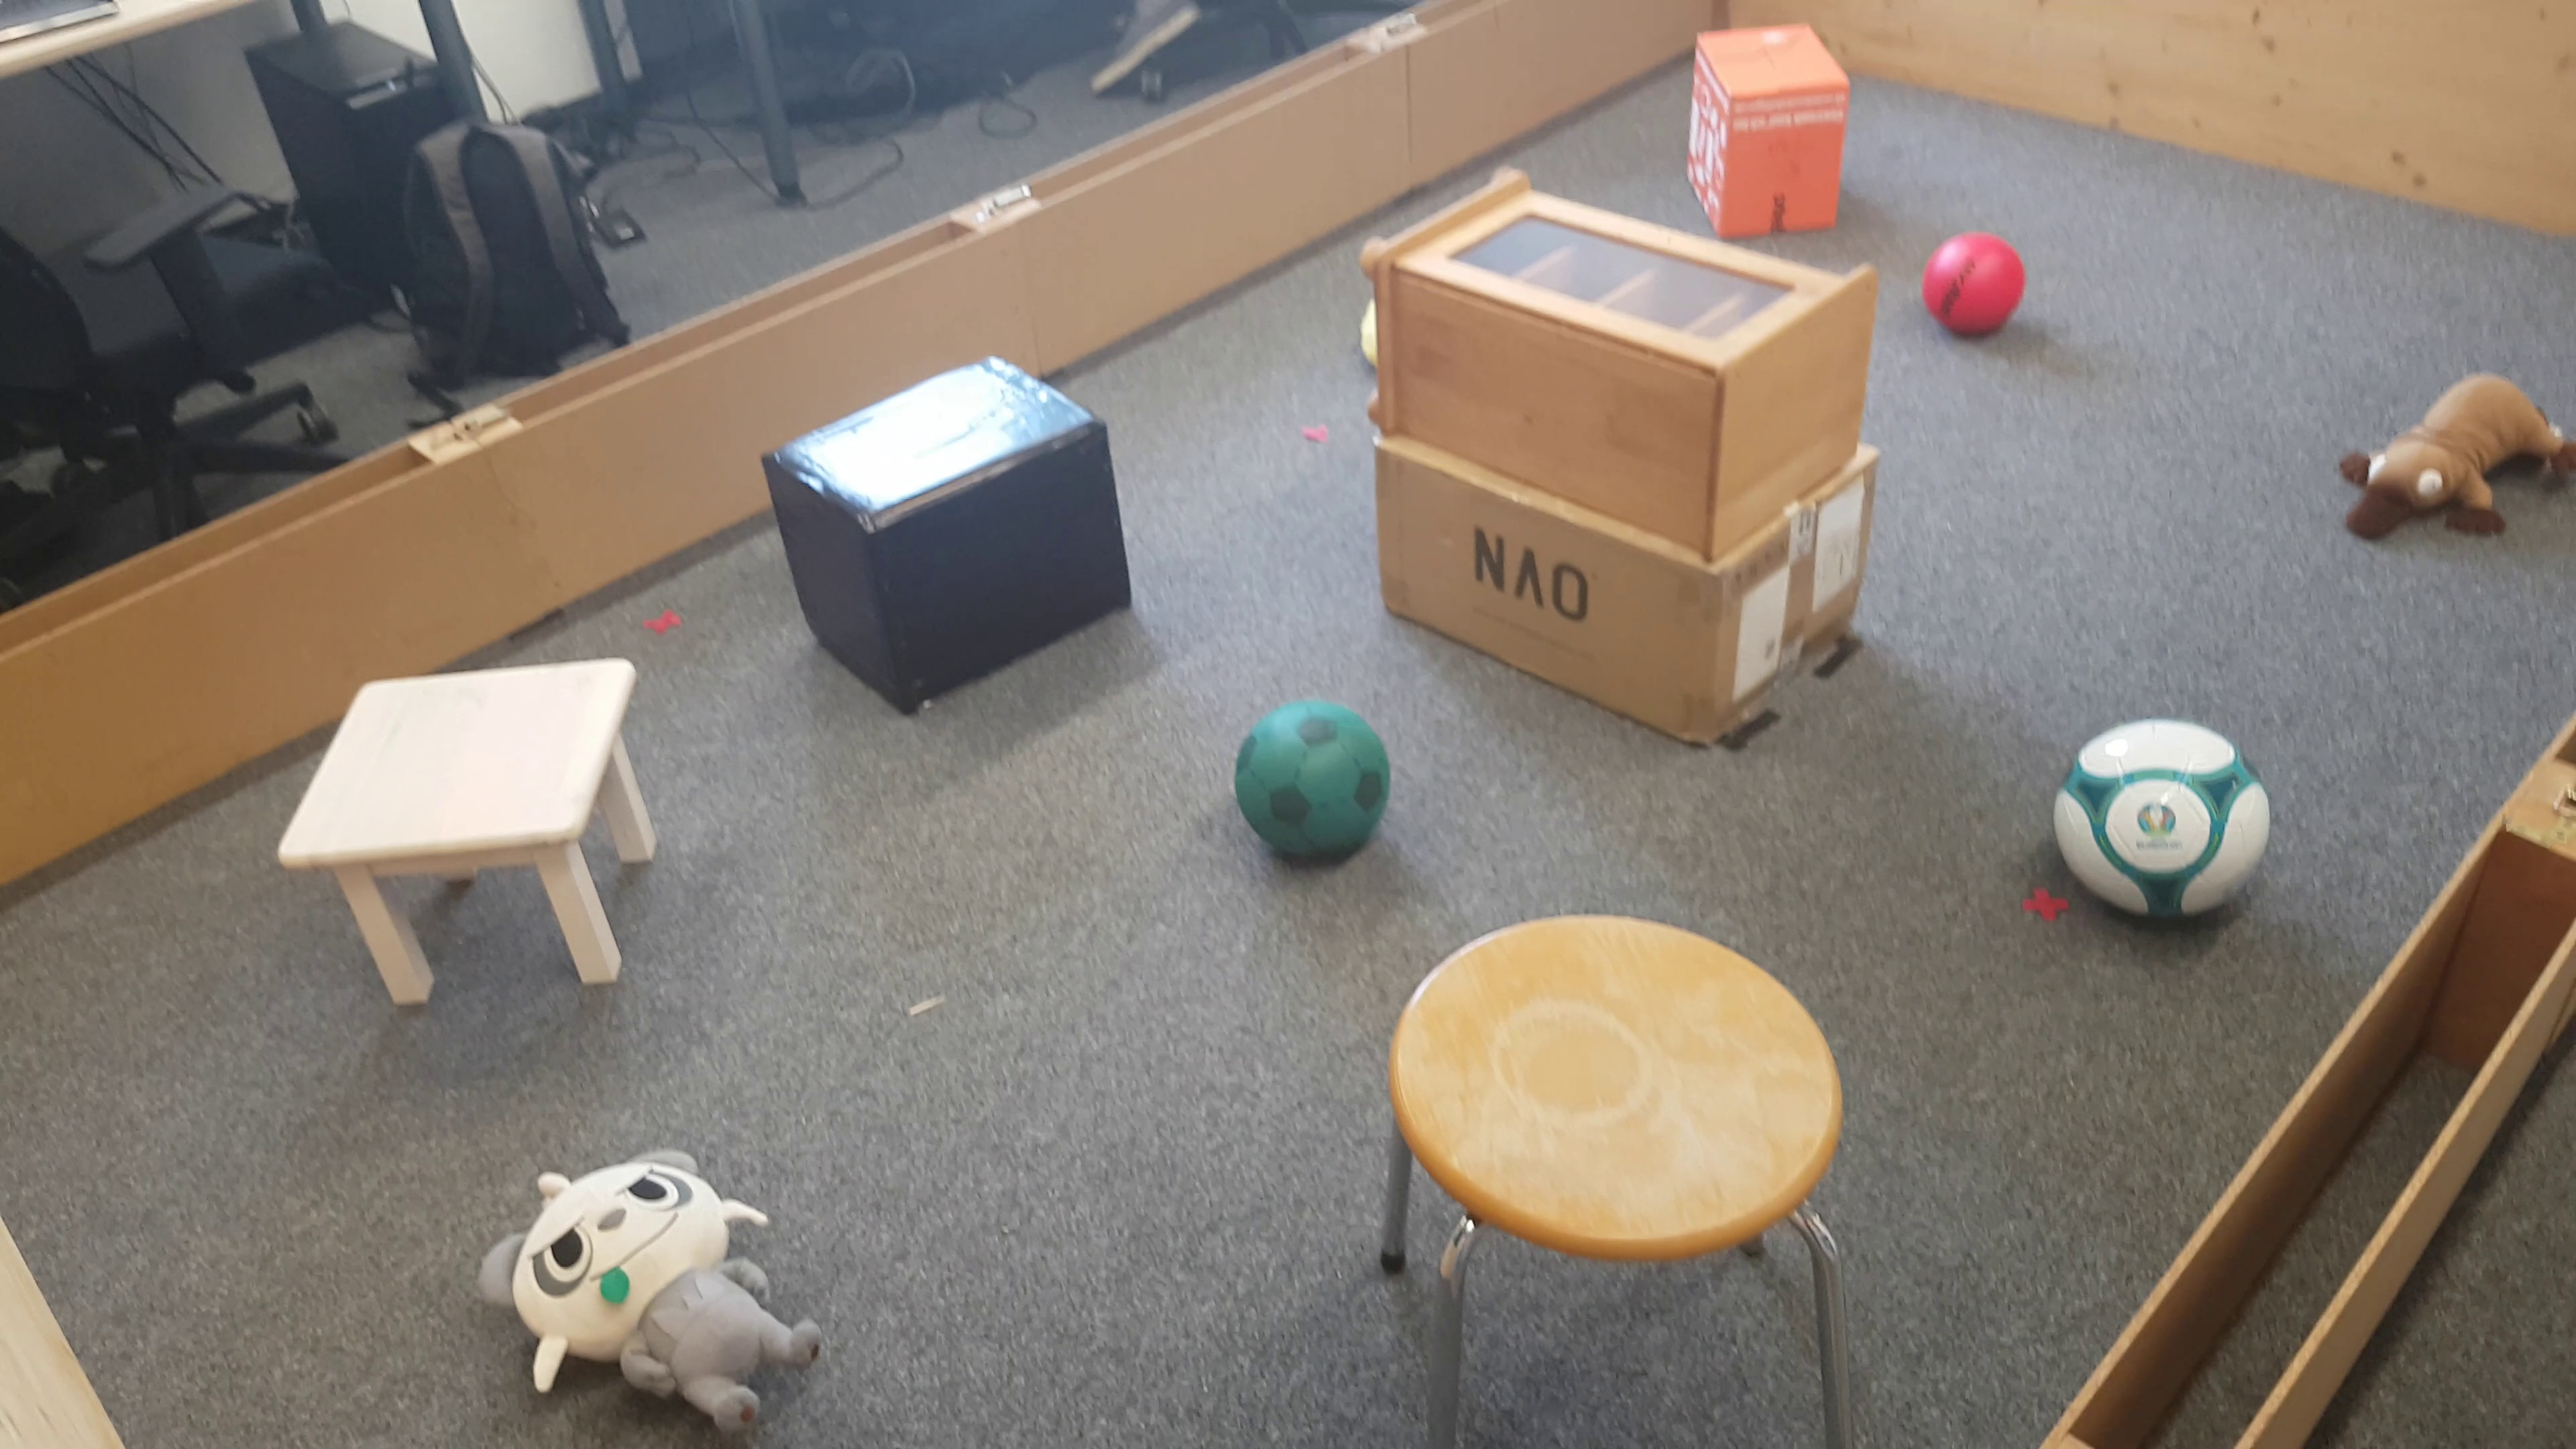grasp: (474, 1145, 826, 1437), (2334, 373, 2571, 552)
kick: (2051, 720, 2268, 927), (1233, 701, 1387, 863), (1920, 234, 2024, 338)
push: (770, 352, 1136, 715), (1683, 19, 1851, 242)
